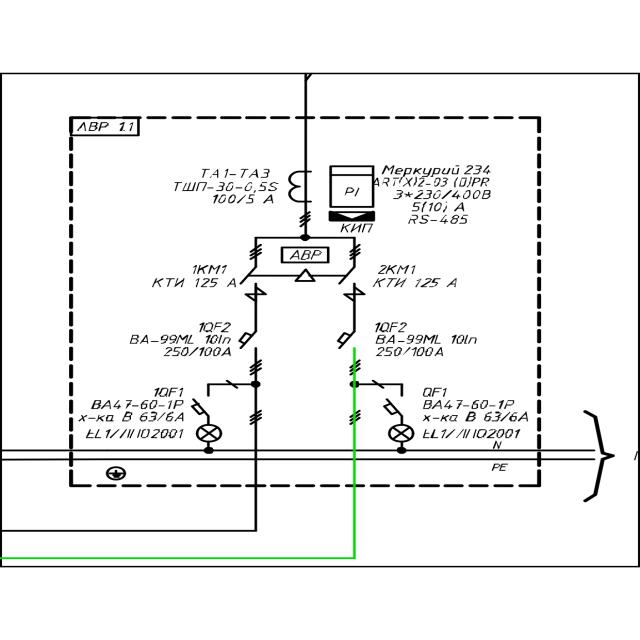-: (374, 164, 494, 225), (373, 333, 478, 361), (419, 398, 530, 424), (78, 397, 188, 422), (128, 333, 234, 358), (172, 180, 280, 204), (419, 425, 526, 441), (83, 426, 187, 440), (372, 275, 460, 291), (150, 276, 237, 289)
AVR: (278, 245, 334, 264)
HL: (194, 422, 223, 443), (386, 423, 417, 442)
KM: (336, 266, 366, 302), (239, 266, 269, 302)
QF: (335, 328, 362, 355), (235, 330, 262, 357), (381, 394, 408, 419), (190, 394, 213, 418)
TT: (286, 169, 314, 205)
WH: (327, 163, 375, 208)
